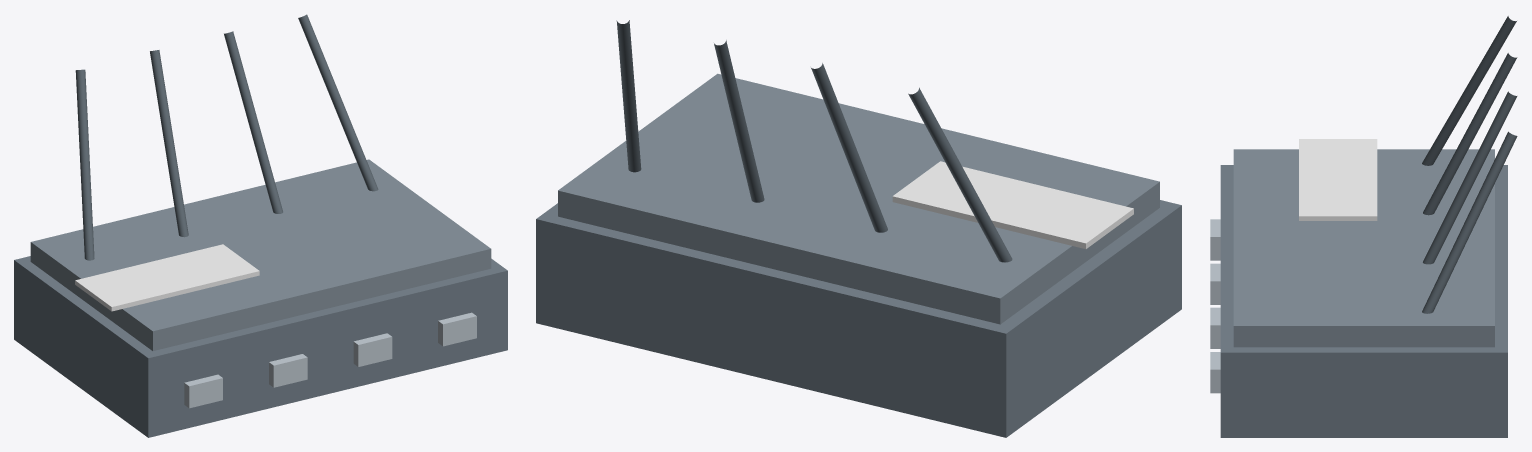
Rendered from router.glb.
3 renders of one model, left to right at view 1: azimuth 30°, elevation 25°; view 2: azimuth 150°, elevation 25°; view 3: azimuth 270°, elevation 25°, orthographic. The views are drawn at different scales.
Parts seen in each view (by area): view 1: router_top, router_body, router_label_plate, antenna_1, antenna_2, antenna_3, antenna_4, ethernet_port_3, ethernet_port_1, ethernet_port_4, ethernet_port_2; view 2: router_body, router_top, router_label_plate, antenna_1, antenna_2, antenna_3, antenna_4; view 3: router_top, router_body, router_label_plate, antenna_4, antenna_3, antenna_2, antenna_1, ethernet_port_1, ethernet_port_2, ethernet_port_3, ethernet_port_4.
Part boxes in pixels (x1,y1,x2,y2): router_top: (30, 159, 491, 350); router_body: (14, 256, 507, 437); router_label_plate: (75, 244, 259, 311); antenna_1: (75, 69, 94, 260); antenna_2: (150, 50, 188, 237); antenna_3: (224, 31, 282, 213); antenna_4: (298, 14, 378, 191); ethernet_port_3: (353, 333, 392, 366); ethernet_port_1: (184, 374, 222, 408); ethernet_port_4: (438, 312, 476, 346); ethernet_port_2: (269, 354, 307, 387); router_body: (536, 200, 1181, 437); router_top: (558, 73, 1159, 324); router_label_plate: (892, 161, 1133, 248); antenna_1: (908, 87, 1012, 262); antenna_2: (811, 63, 887, 232); antenna_3: (714, 40, 764, 202); antenna_4: (616, 20, 641, 172); router_top: (1233, 149, 1494, 347); router_body: (1220, 165, 1507, 437); router_label_plate: (1299, 139, 1377, 220); antenna_4: (1422, 131, 1517, 313); antenna_3: (1423, 91, 1517, 264); antenna_2: (1423, 53, 1517, 215); antenna_1: (1422, 16, 1516, 165); ethernet_port_1: (1210, 219, 1220, 260); ethernet_port_2: (1210, 263, 1220, 304); ethernet_port_3: (1210, 307, 1220, 348); ethernet_port_4: (1210, 352, 1220, 393).
Bounding box in the file's own units: 1.44 × 0.9722 × 0.995.
